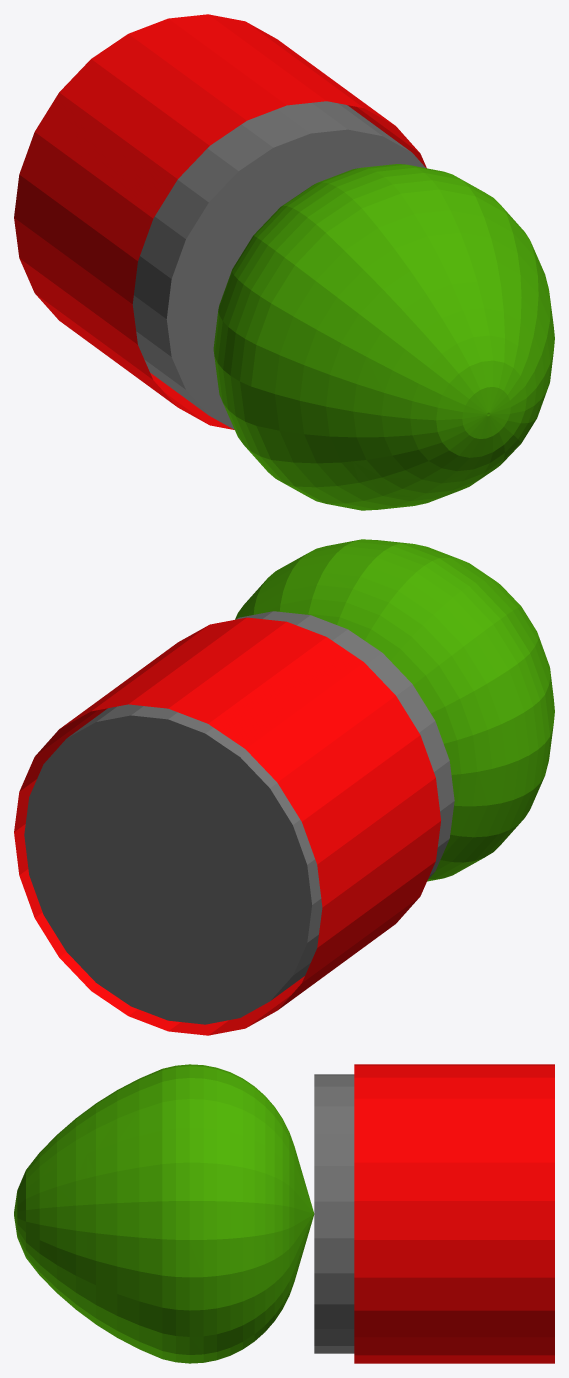
The model's file is HPE75cm.obj.
The picture shows the model from 3 angles, top to bottom: view 1: azimuth 30°, elevation 25°; view 2: azimuth 150°, elevation 25°; view 3: azimuth 270°, elevation 25°; orthographic projection. The views are drawn at different scales.
Bounding box in the file's own units: 0.75 × 0.75 × 1.35.
